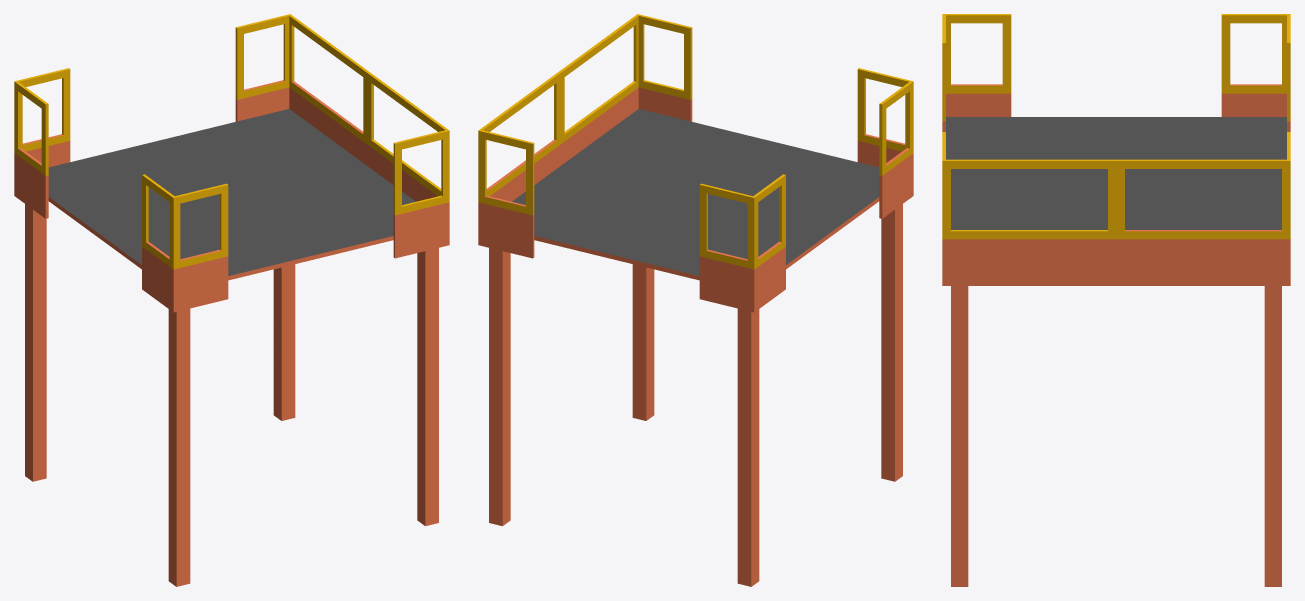
File: Prop_Industrial_Platform_Walkway_Wide_Intersection_01.FBX
The picture shows the model from 3 angles, left to right: view 1: azimuth 30°, elevation 25°; view 2: azimuth 150°, elevation 25°; view 3: azimuth 270°, elevation 25°; orthographic projection. The views are drawn at different scales.
Parts seen in each view (by area): view 1: Prop_Industrial_Platform_Walkway_Wide_Intersection_01; view 2: Prop_Industrial_Platform_Walkway_Wide_Intersection_01; view 3: Prop_Industrial_Platform_Walkway_Wide_Intersection_01.
Boxes of the visible parts, x1,y1,x2,y2 form: Prop_Industrial_Platform_Walkway_Wide_Intersection_01: (14,14,449,586); Prop_Industrial_Platform_Walkway_Wide_Intersection_01: (478,14,913,586); Prop_Industrial_Platform_Walkway_Wide_Intersection_01: (942,14,1290,586).
Size of the model in its own units: 4040 by 5500 by 4040.
